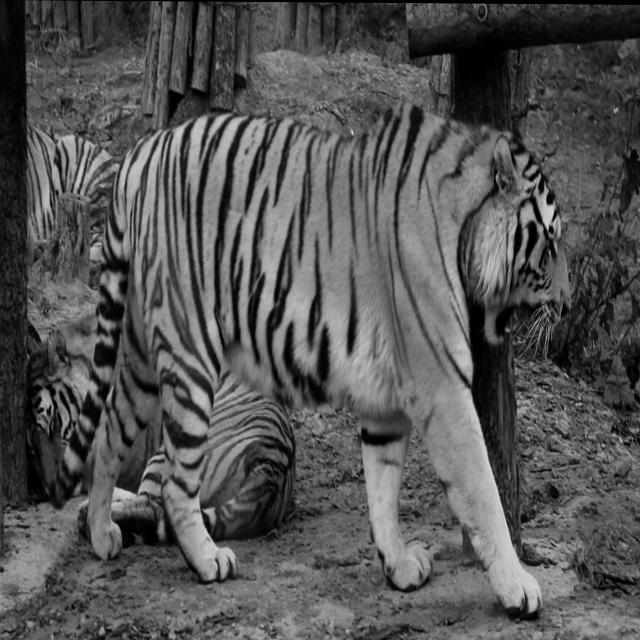Tiger: (48, 97, 572, 620), (26, 324, 296, 551)
